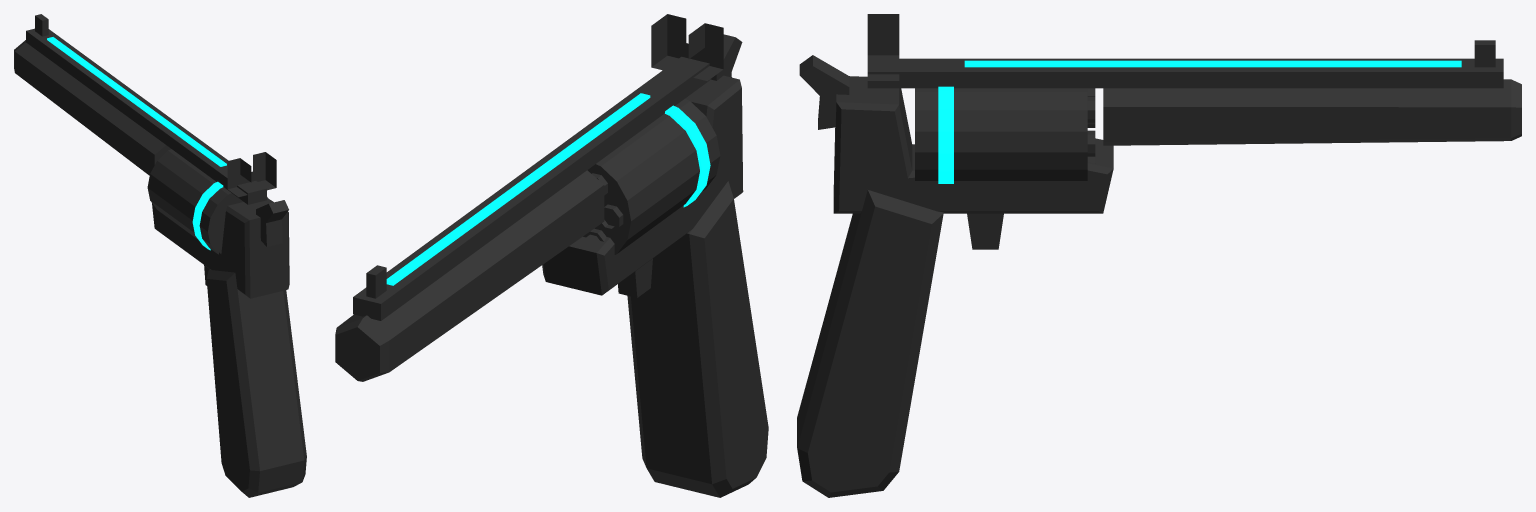
The model's file is revolver.glb.
3 renders of one model, left to right at view 1: azimuth 30°, elevation 25°; view 2: azimuth 150°, elevation 25°; view 3: azimuth 270°, elevation 25°, orthographic. The views are drawn at different scales.
Parts seen in each view (by area): view 1: frame, grip, trim, heat_cell, heat_vents; view 2: frame, grip, trim, heat_cell, heat_vents; view 3: frame, grip, trim, heat_cell, heat_vents.
Boxes of the visible parts, bbox=[...] form: frame: bbox=[14, 14, 289, 298]; grip: bbox=[206, 269, 306, 497]; trim: bbox=[147, 149, 288, 285]; heat_cell: bbox=[47, 37, 226, 166]; heat_vents: bbox=[192, 181, 223, 250]; frame: bbox=[335, 14, 743, 381]; grip: bbox=[627, 181, 768, 497]; trim: bbox=[583, 34, 742, 297]; heat_cell: bbox=[386, 93, 650, 285]; heat_vents: bbox=[665, 105, 710, 207]; frame: bbox=[833, 14, 1521, 213]; grip: bbox=[797, 190, 943, 497]; trim: bbox=[799, 55, 1095, 249]; heat_cell: bbox=[964, 60, 1461, 67]; heat_vents: bbox=[938, 86, 953, 183].
Bounding box in the file's own units: 0.044 × 0.192 × 0.277.
